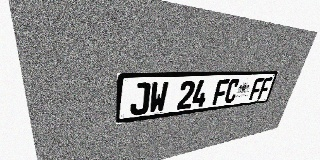2: (177, 80, 196, 110)
4: (191, 80, 210, 108)
C: (223, 79, 240, 104)
F: (212, 79, 230, 105), (257, 77, 273, 99), (249, 78, 264, 100)
J: (130, 82, 151, 116)
W: (148, 82, 169, 113)
